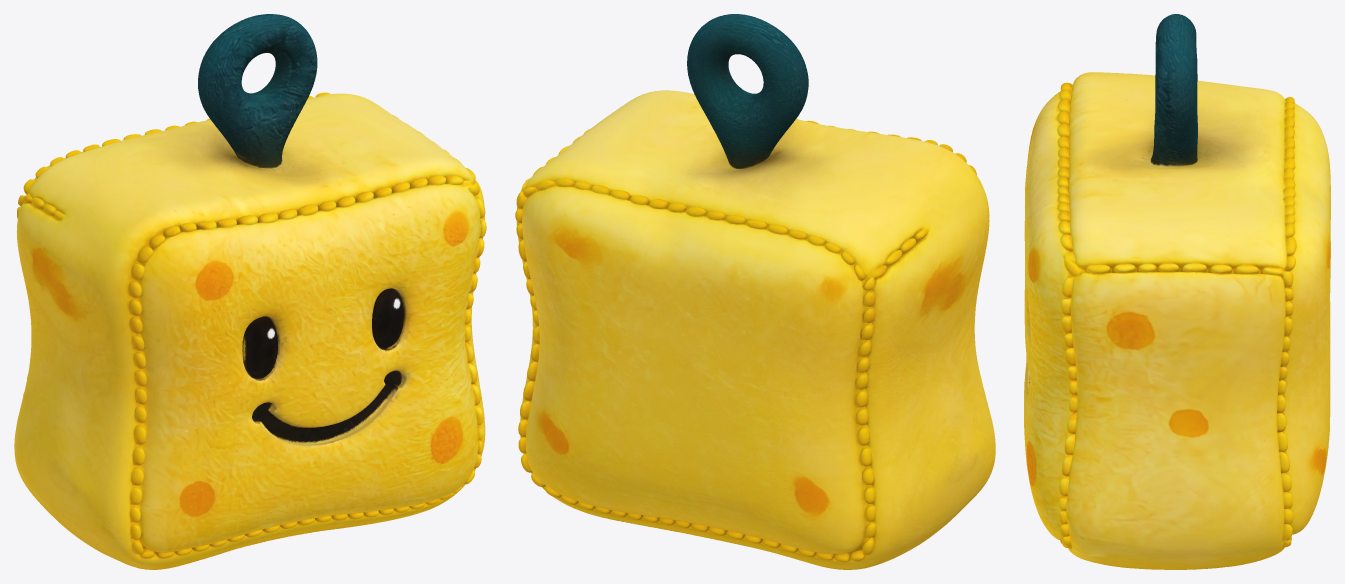
Rendered from base_basic_shaded_compressed.glb.
The picture shows the model from 3 angles, left to right: view 1: azimuth 30°, elevation 25°; view 2: azimuth 150°, elevation 25°; view 3: azimuth 270°, elevation 25°; orthographic projection. The views are drawn at different scales.
Visible parts, largest first — view 1: model; view 2: model; view 3: model.
Boxes of the visible parts, x1=… form: model: x1=14, y1=14, x2=486, y2=569; model: x1=515, y1=14, x2=995, y2=569; model: x1=1024, y1=14, x2=1330, y2=569.
Size of the model in its own units: 1.59 by 1.9 by 1.1.
Materials: 1 (1 with a texture image).
